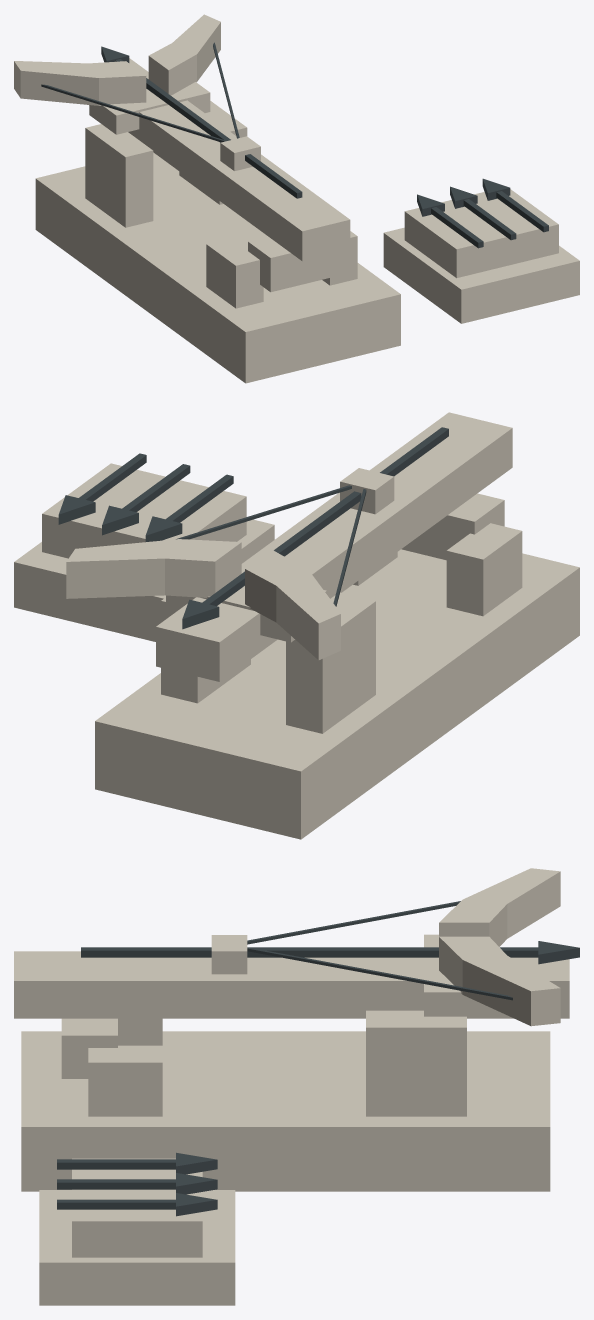
File: great_ballista_a.glb
3 views of the same model, one above another, from view 1: azimuth 30°, elevation 25°; view 2: azimuth 150°, elevation 25°; view 3: azimuth 270°, elevation 25° (orthographic). The views are drawn at different scales.
Visible parts, largest first — view 1: BWAR_GB_A_Chassis, BWAR_GB_A_SingleTrack, BWAR_GB_A_RackFoot, BWAR_GB_A_Rack, BWAR_GB_A_Support-1, BWAR_GB_A_BowLimb-1, BWAR_GB_A_BowLimb1, BWAR_GB_A_RearSupport-1, BWAR_GB_A_Winch, BWAR_GB_A_BowSaddle, BWAR_GB_A_ReadyBolt_shaft, BWAR_GB_A_Latch (+6 smaller); view 2: BWAR_GB_A_Chassis, BWAR_GB_A_SingleTrack, BWAR_GB_A_BowLimb1, BWAR_GB_A_Rack, BWAR_GB_A_Support-1, BWAR_GB_A_RackFoot, BWAR_GB_A_BowLimb-1, BWAR_GB_A_RearSupport-1, BWAR_GB_A_Winch, BWAR_GB_A_ReadyBolt_shaft, BWAR_GB_A_Support1, BWAR_GB_A_Latch (+9 smaller); view 3: BWAR_GB_A_Chassis, BWAR_GB_A_SingleTrack, BWAR_GB_A_RackFoot, BWAR_GB_A_Support1, BWAR_GB_A_Rack, BWAR_GB_A_BowLimb1, BWAR_GB_A_BowLimb-1, BWAR_GB_A_RearSupport1, BWAR_GB_A_ReadyBolt_shaft, BWAR_GB_A_Winch, BWAR_GB_A_BowSaddle, BWAR_GB_A_Latch (+10 smaller).
Boxes of the visible parts, x1=… form: BWAR_GB_A_Chassis: x1=35, y1=152, x2=400, y2=383; BWAR_GB_A_SingleTrack: x1=128, y1=58, x2=350, y2=261; BWAR_GB_A_RackFoot: x1=383, y1=227, x2=579, y2=323; BWAR_GB_A_Rack: x1=404, y1=189, x2=558, y2=278; BWAR_GB_A_Support-1: x1=85, y1=124, x2=153, y2=227; BWAR_GB_A_BowLimb-1: x1=14, y1=61, x2=146, y2=105; BWAR_GB_A_BowLimb1: x1=148, y1=14, x2=220, y2=95; BWAR_GB_A_RearSupport-1: x1=206, y1=237, x2=263, y2=308; BWAR_GB_A_Winch: x1=248, y1=236, x2=344, y2=292; BWAR_GB_A_BowSaddle: x1=89, y1=82, x2=210, y2=134; BWAR_GB_A_ReadyBolt_shaft: x1=115, y1=59, x2=302, y2=198; BWAR_GB_A_Latch: x1=220, y1=136, x2=260, y2=171; BWAR_GB_A_Chassis: x1=95, y1=549, x2=579, y2=839; BWAR_GB_A_SingleTrack: x1=156, y1=412, x2=512, y2=681; BWAR_GB_A_BowLimb1: x1=66, y1=539, x2=241, y2=598; BWAR_GB_A_Rack: x1=42, y1=463, x2=246, y2=558; BWAR_GB_A_Support-1: x1=286, y1=592, x2=375, y2=733; BWAR_GB_A_RackFoot: x1=14, y1=519, x2=274, y2=641; BWAR_GB_A_BowLimb-1: x1=245, y1=549, x2=340, y2=660; BWAR_GB_A_RearSupport-1: x1=446, y1=523, x2=522, y2=616; BWAR_GB_A_Winch: x1=401, y1=493, x2=504, y2=560; BWAR_GB_A_ReadyBolt_shaft: x1=202, y1=427, x2=448, y2=606; BWAR_GB_A_Support1: x1=161, y1=597, x2=250, y2=703; BWAR_GB_A_Latch: x1=340, y1=468, x2=394, y2=514; BWAR_GB_A_Chassis: x1=21, y1=1031, x2=550, y2=1191; BWAR_GB_A_SingleTrack: x1=14, y1=951, x2=569, y2=1018; BWAR_GB_A_RackFoot: x1=39, y1=1190, x2=235, y2=1305; BWAR_GB_A_Support1: x1=366, y1=1010, x2=466, y2=1116; BWAR_GB_A_Rack: x1=72, y1=1158, x2=202, y2=1257; BWAR_GB_A_BowLimb1: x1=439, y1=936, x2=560, y2=1026; BWAR_GB_A_BowLimb-1: x1=439, y1=868, x2=560, y2=946; BWAR_GB_A_RearSupport1: x1=88, y1=1045, x2=162, y2=1116; BWAR_GB_A_ReadyBolt_shaft: x1=81, y1=947, x2=538, y2=957; BWAR_GB_A_Winch: x1=61, y1=1018, x2=117, y2=1078; BWAR_GB_A_BowSaddle: x1=424, y1=934, x2=492, y2=1016; BWAR_GB_A_Latch: x1=211, y1=935, x2=247, y2=974.
Bounding box in the file's own units: 1.78 × 0.795 × 1.9.
